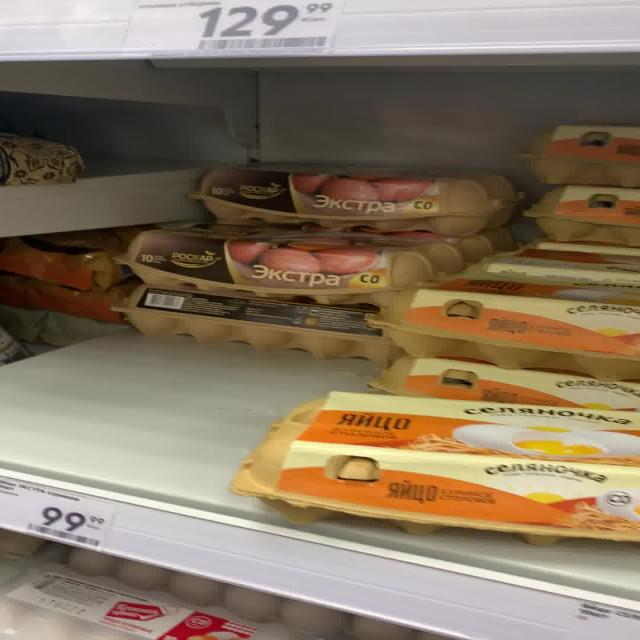egg box: (239, 392, 637, 545), (123, 222, 464, 308), (194, 162, 523, 235)
